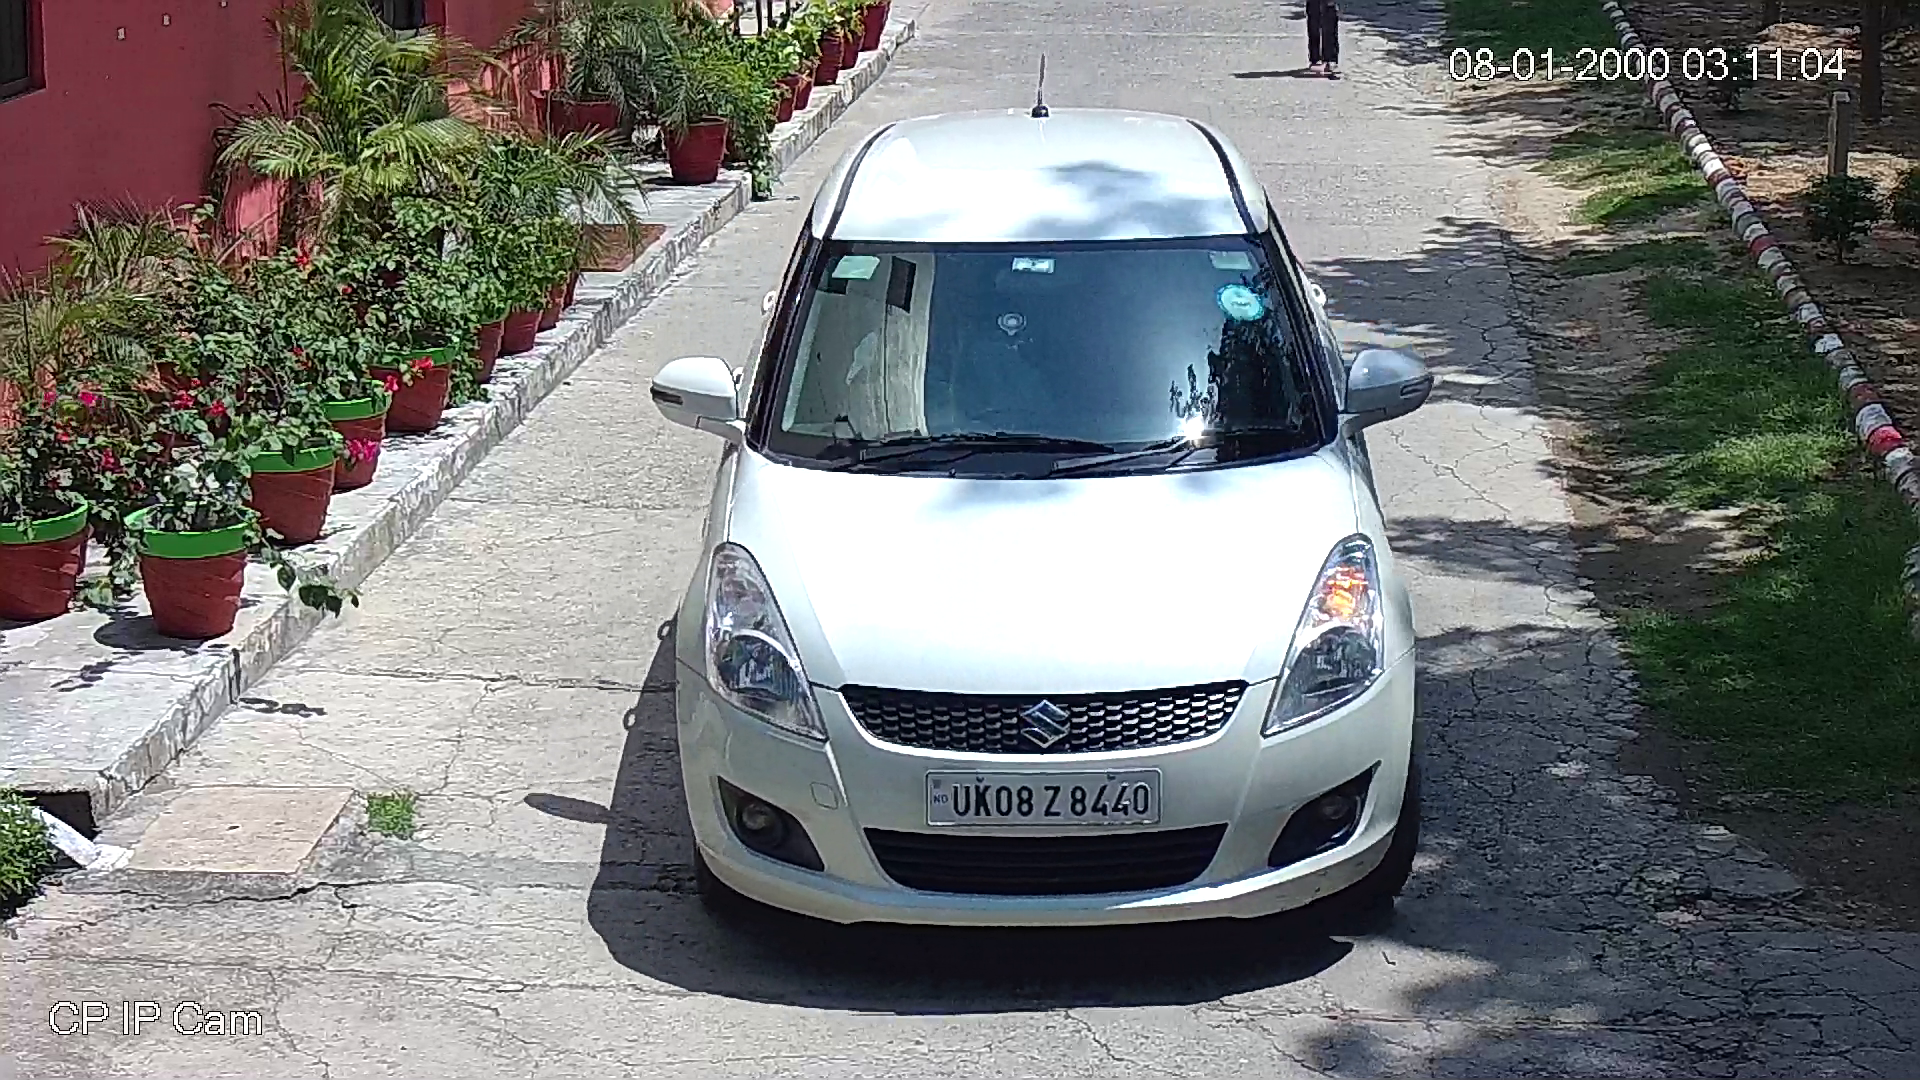plate: (918, 762, 1170, 835)
